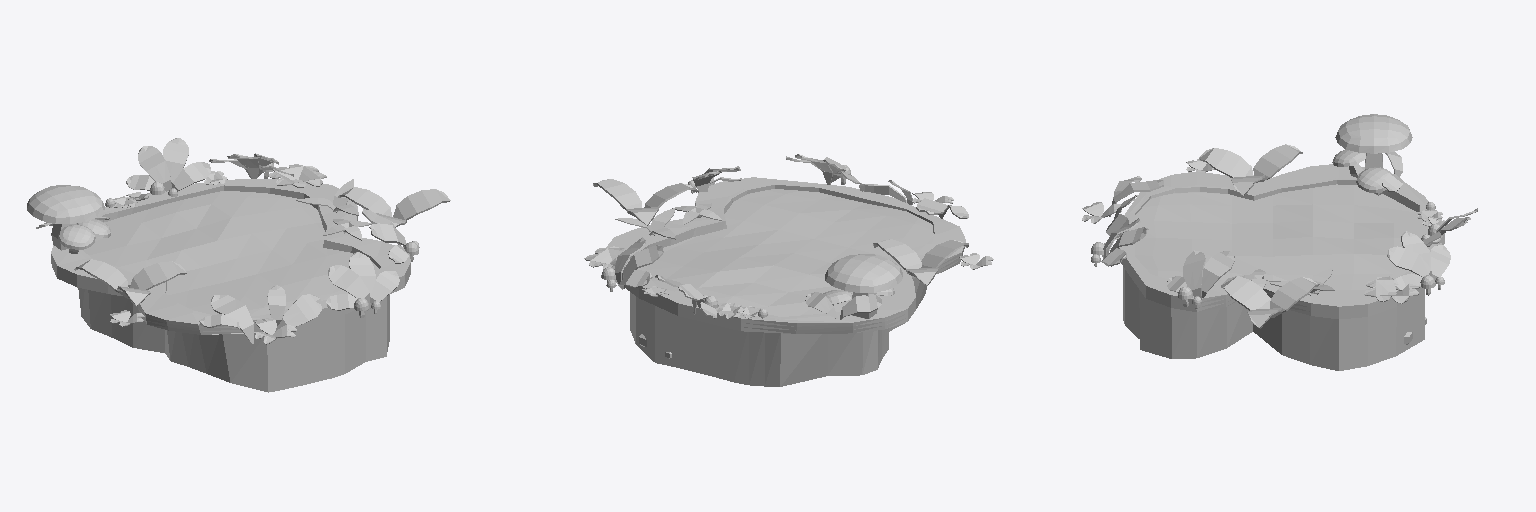
Rendered from Little Pond FishOBJ.obj.
The picture shows the model from 3 angles: view 1: azimuth 30°, elevation 25°; view 2: azimuth 150°, elevation 25°; view 3: azimuth 270°, elevation 25°; orthographic projection.
Parts seen in each view (by area): view 1: _Grass:polySurface2_grass03_0, pCube1_pondbase_0, pPlane1_water_0, pCube1_lambert6_0; view 2: pCube1_pondbase_0, pPlane1_water_0, _Grass:polySurface2_grass03_0, pCube1_lambert6_0; view 3: pCube1_pondbase_0, pPlane1_water_0, _Grass:polySurface2_grass03_0, pCube1_lambert6_0.
Part boxes in pixels (x1,y1,x2,y2): _Grass:polySurface2_grass03_0: (27, 138, 450, 344); pCube1_pondbase_0: (51, 179, 410, 392); pPlane1_water_0: (83, 191, 379, 315); pCube1_lambert6_0: (79, 183, 385, 317); pCube1_pondbase_0: (606, 177, 965, 386); pPlane1_water_0: (641, 189, 933, 316); _Grass:polySurface2_grass03_0: (584, 154, 993, 319); pCube1_lambert6_0: (637, 182, 939, 319); pCube1_pondbase_0: (1118, 164, 1441, 370); pPlane1_water_0: (1135, 184, 1419, 289); _Grass:polySurface2_grass03_0: (1082, 114, 1477, 328); pCube1_lambert6_0: (1129, 178, 1424, 291).
Bounding box in the file's own units: 26.51 × 8.83 × 24.67.